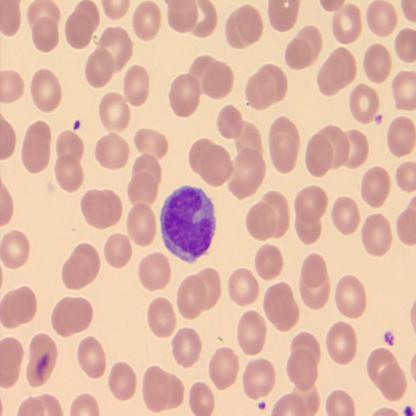Monocyte: (158, 184, 218, 264)
